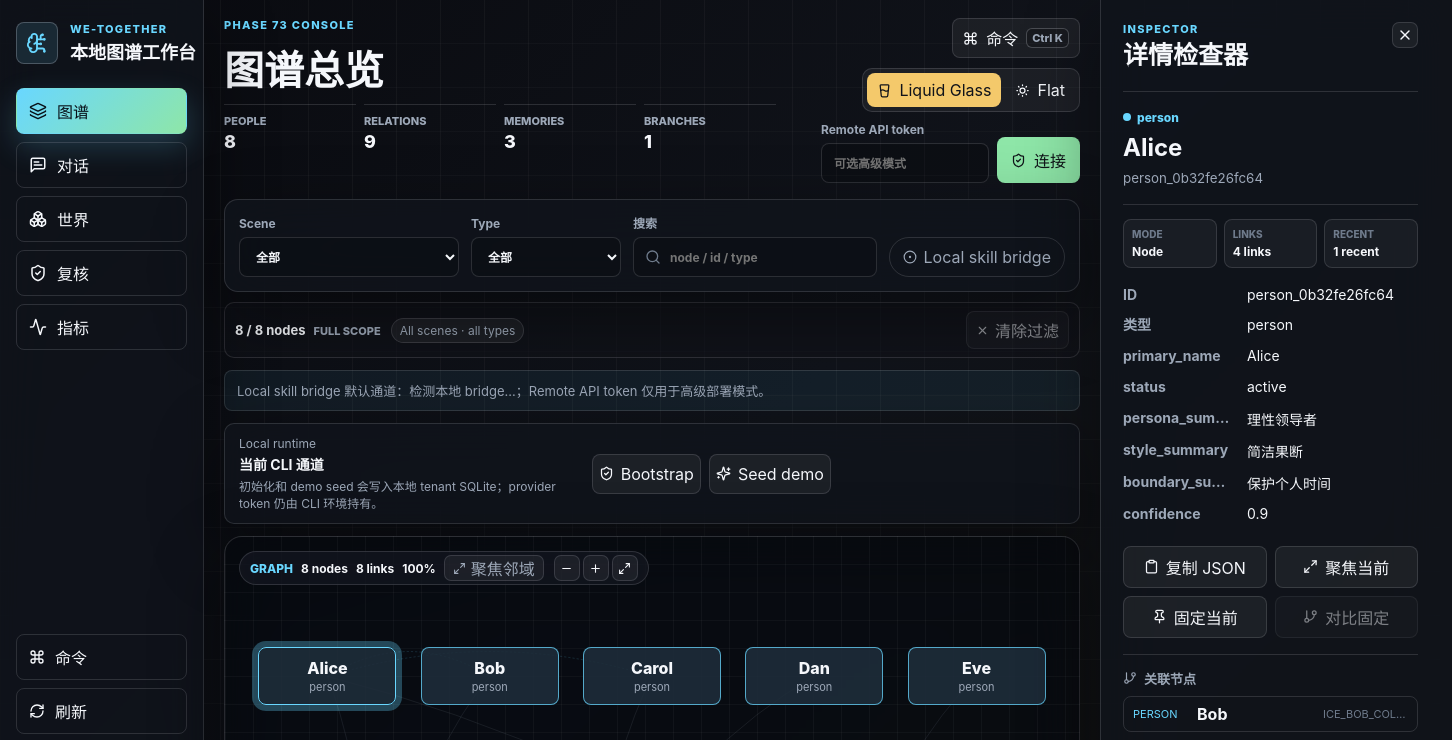
Test case: WeTogether WebUI › summarizes active filters and clears the graph scope
In the field labelled "搜索": (755, 257) [633,237,877,277], type "memory"
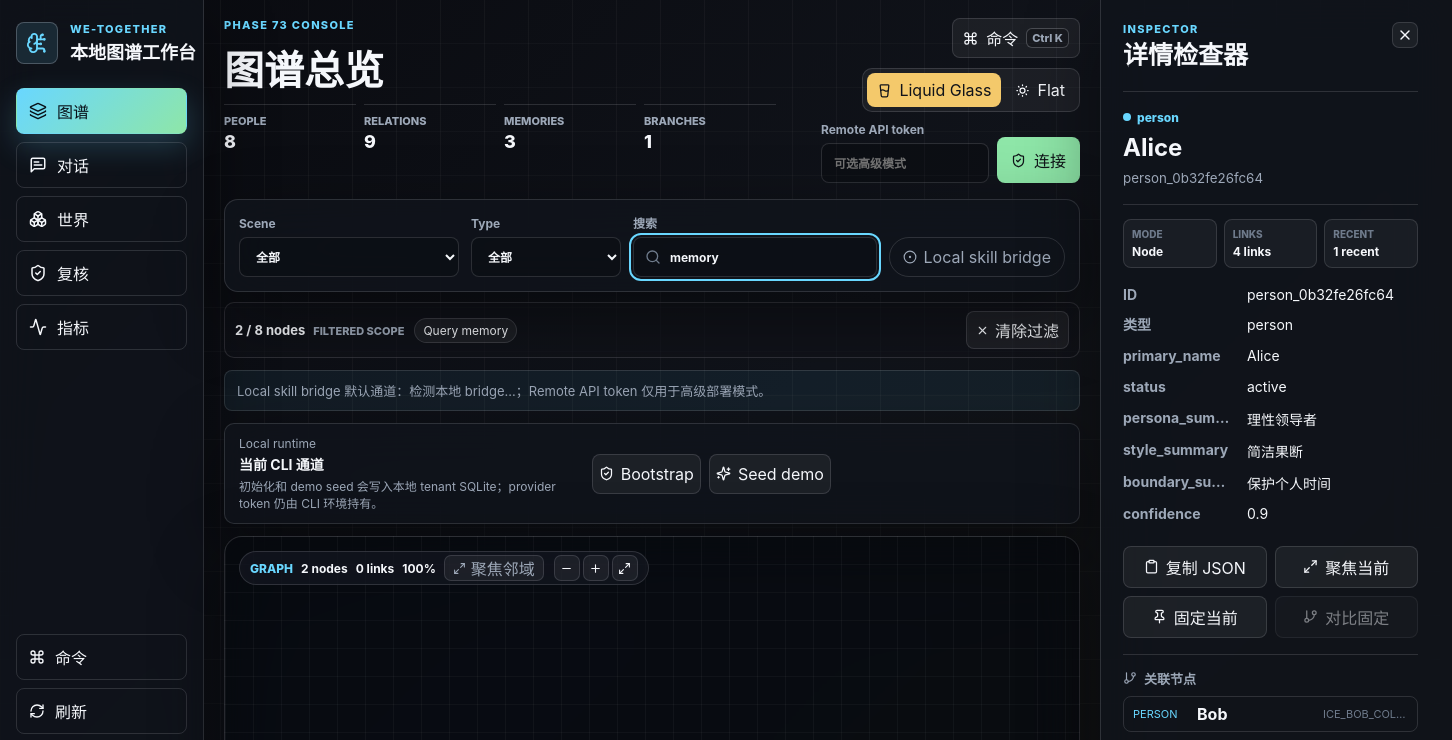
Now the text "2 / 8 nodes" is shown, box [235,322,305,338]
Now the text "Query memory" is shown, box [414,318,517,342]
Select "人物" in the dropdown labelled "Type": (546, 257) [471,237,621,277]
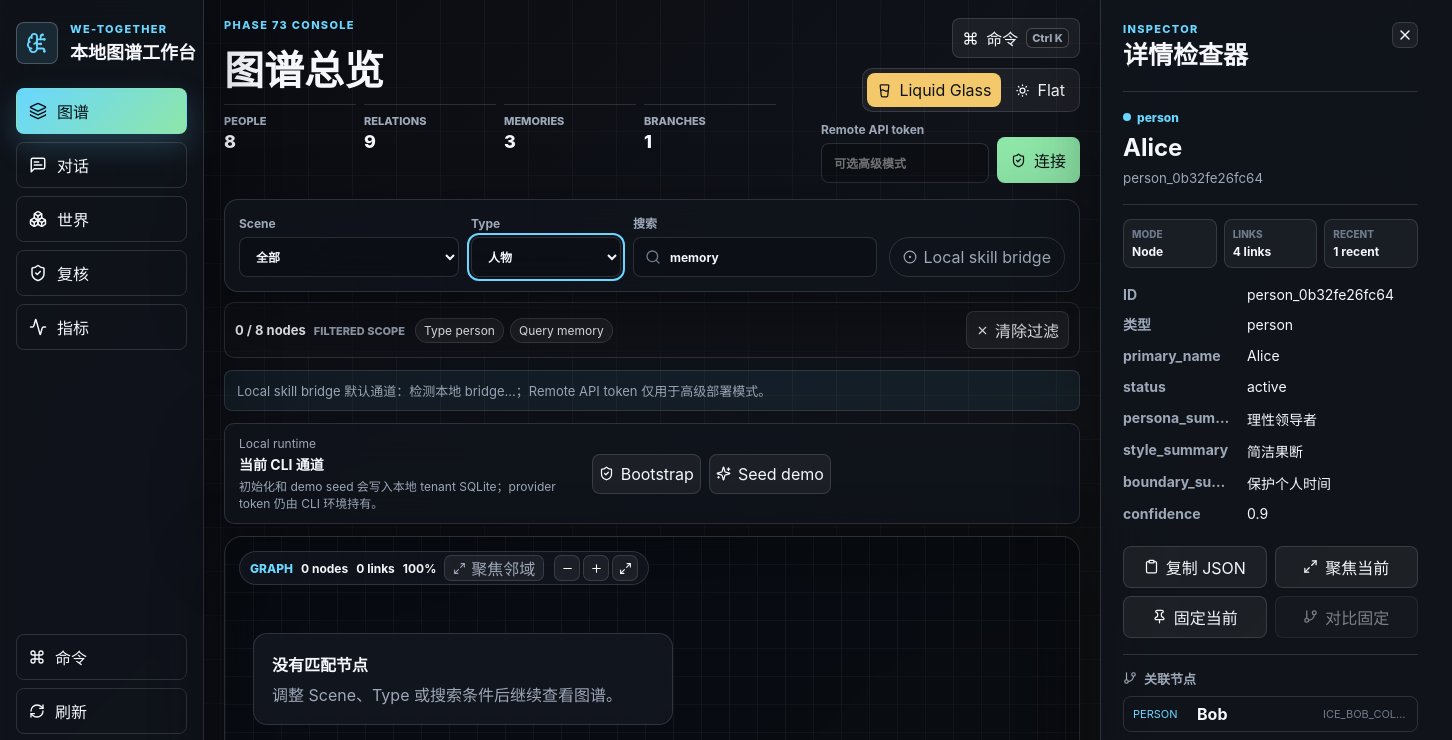
Now the text "Type person" is shown, box [415,318,504,342]
Click the button "清除过滤": (1018, 330) [966,311,1069,349]
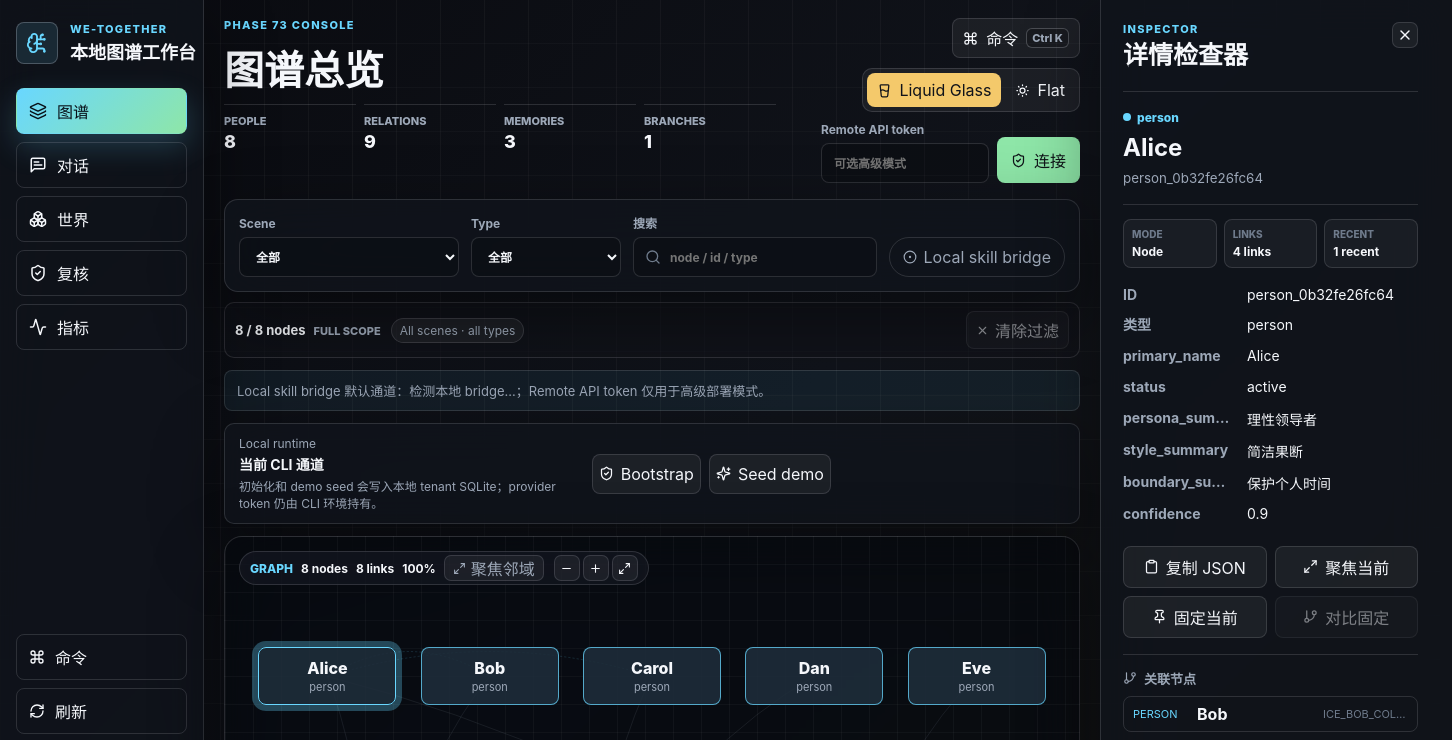
Now the field labelled "搜索" is empty, box [633,237,877,277]
Now the text "8 / 8 nodes" is shown, box [235,322,306,338]
